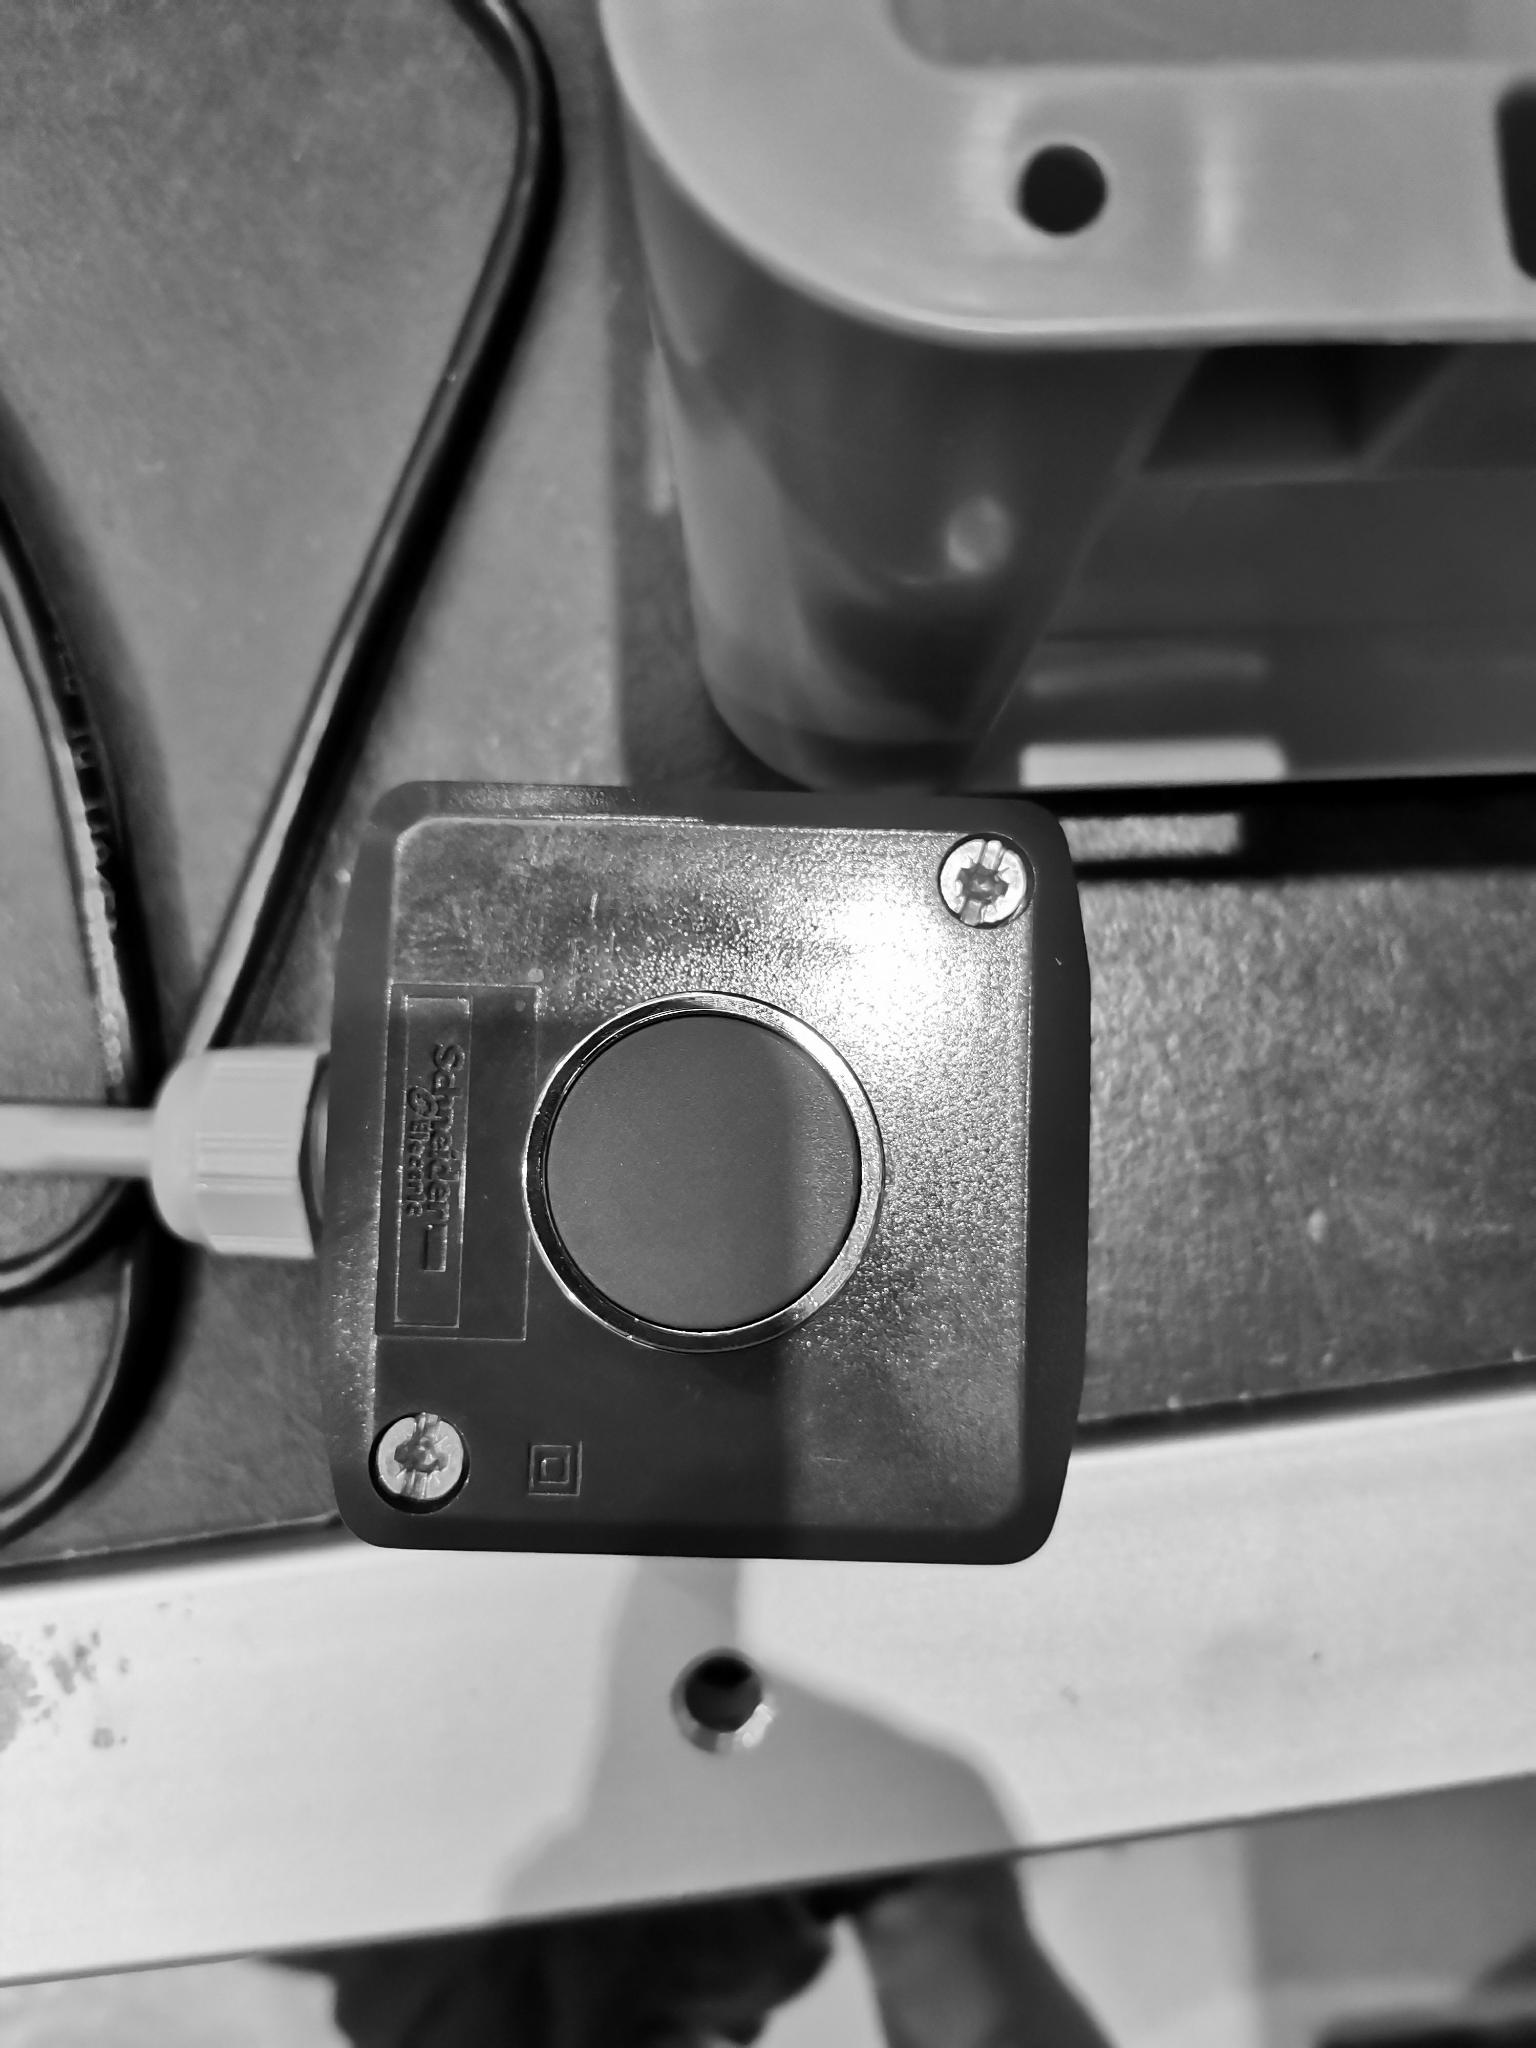screw: (363, 1405, 481, 1521), (929, 826, 1039, 939)
